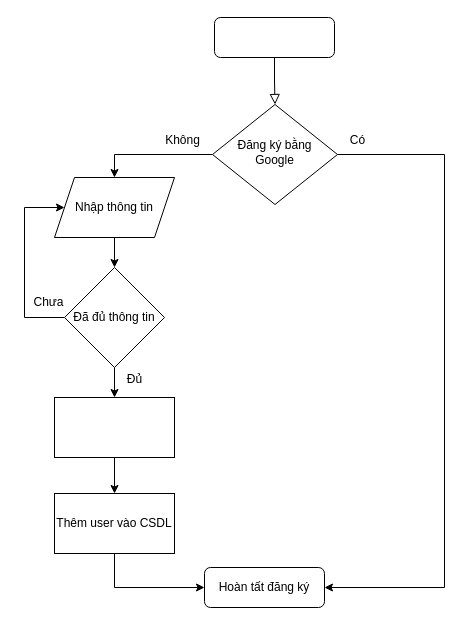
The diagram is 470 pixels wide and 625 high, and some of its shapes have lost their labels. The shapes that lost their labels are listed below. From the top down, each one's box as (x1, y1, x2, y2) in pixels, then its label:
(214, 16, 334, 58): Đăng ký tài khoản
(54, 396, 174, 458): Mã hoá mật khẩu
